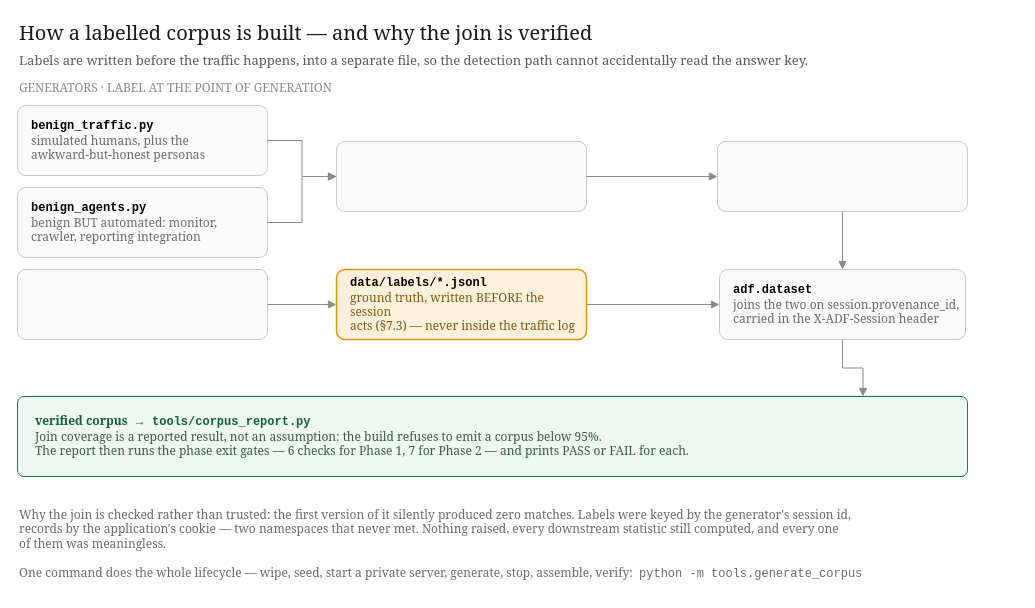
The diagram is 1035 pixels wide and 608 high, and some of its shapes have lost their labels. Here are the shapes that lost their labels. From the top down, the box of each, then its label:
(336, 140, 586, 212): target application the deliberately weak site — knows nothing of adf/
(716, 140, 968, 212): data/logs/*.jsonl append-only, hash-chained, tamper-evident (NFR-13)
(16, 268, 268, 340): attack_traffic.py attack round 1 — 12 profiles, all three categories
